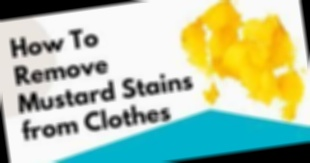mustard: (174, 1, 296, 75), (216, 51, 303, 98), (201, 0, 246, 44), (277, 79, 308, 124), (250, 81, 285, 107), (199, 79, 223, 106)
